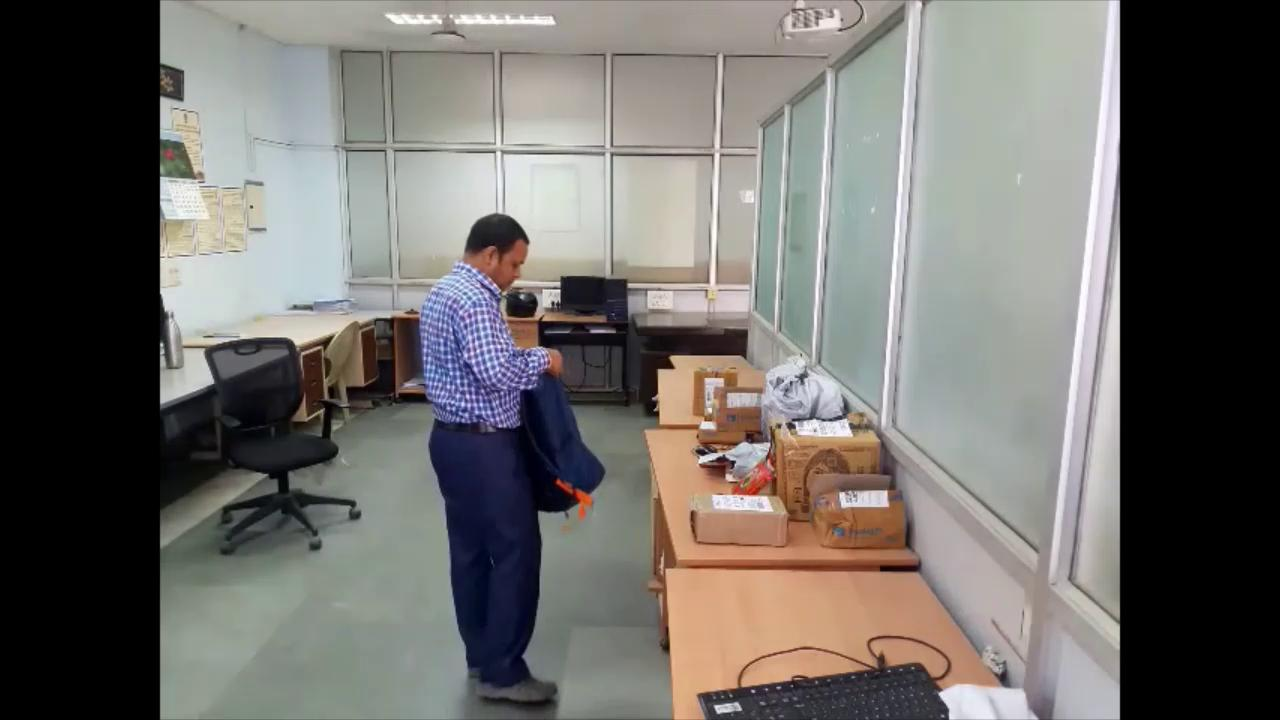shoplifting: (413, 192, 609, 715)
